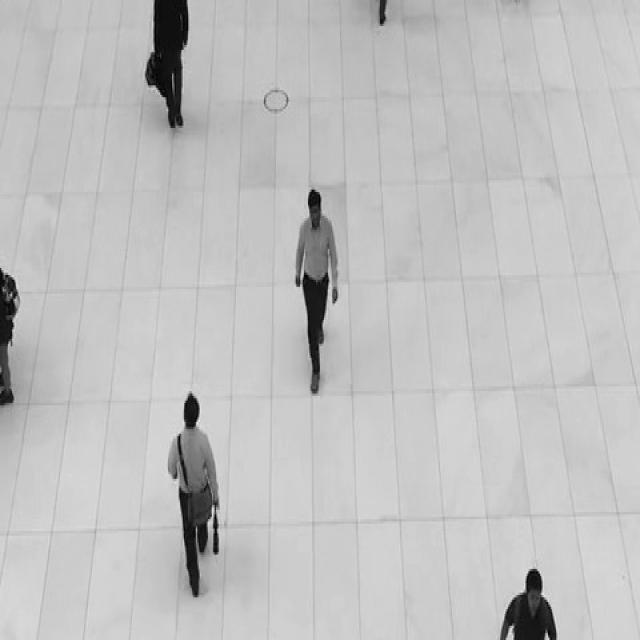human: (125, 382, 237, 631), (288, 154, 357, 403), (120, 0, 195, 159), (0, 197, 28, 422), (490, 550, 554, 640), (370, 0, 414, 59)
